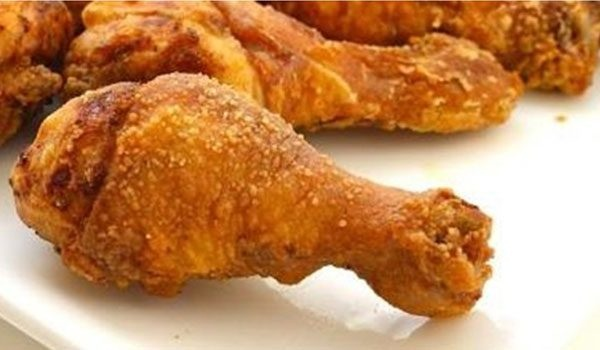ayam_goreng: (10, 71, 506, 322)
